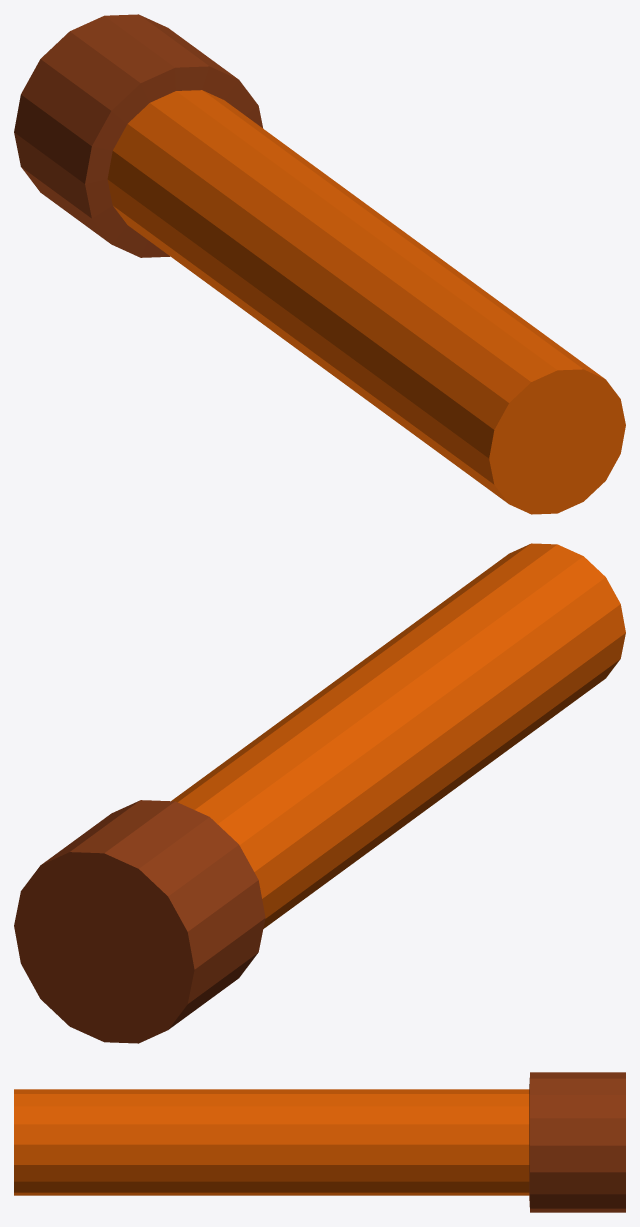
Rendered from Ram.fbx.
3 views of the same model, one above another, from view 1: azimuth 30°, elevation 25°; view 2: azimuth 150°, elevation 25°; view 3: azimuth 270°, elevation 25° (orthographic). The views are drawn at different scales.
Visible parts, largest first — view 1: Cylinder; view 2: Cylinder; view 3: Cylinder.
Boxes of the visible parts, x1,y1,x2,y2 form: Cylinder: (14, 14, 625, 514); Cylinder: (14, 543, 625, 1043); Cylinder: (14, 1072, 625, 1212).
Size of the model in its own units: 46 by 46 by 200.
